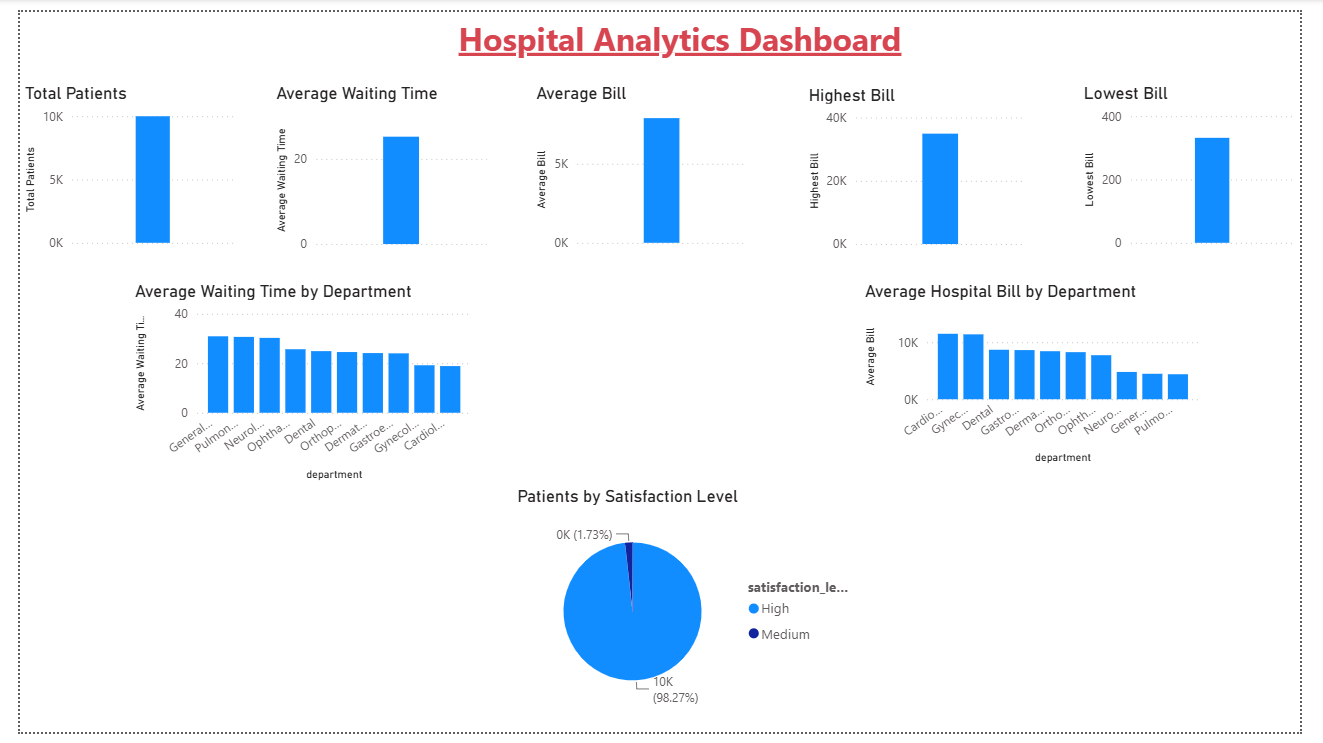

The page's visual inventory and layout, read from the dashboard file:
{"tool":"powerbi","page":{"name":"Page 1","canvas":[1280,720],"ordinal":0},"visuals":[{"type":"textbox","box":[347.5,0,625,57.5],"z":0},{"type":"clusteredColumnChart","fields":{"Y":["Hospital_Data.Total Patients"]},"box":[0,71.2,220,173.8],"z":1},{"type":"clusteredColumnChart","fields":{"Y":["Hospital_Data.Average Waiting Time"]},"box":[251.2,71.2,221.2,175],"z":2},{"type":"clusteredColumnChart","fields":{"Y":["Hospital_Data.Average Bill"]},"box":[511.2,71.2,221.2,173.8],"z":3},{"type":"clusteredColumnChart","fields":{"Y":["Hospital_Data.Highest Bill"]},"box":[783.8,72.5,227.5,173.8],"z":4},{"type":"clusteredColumnChart","fields":{"Y":["Hospital_Data.Lowest Bill"]},"box":[1058.8,71.2,221.2,173.8],"z":5},{"type":"columnChart","title":"Average Waiting Time by Department","fields":{"Category":["Hospital_Data.department"],"Y":["Hospital_Data.Average Waiting Time"]},"box":[110,268.8,346.2,205],"z":6},{"type":"pieChart","title":"Patients by Satisfaction Level","fields":{"Category":["Hospital_Data.satisfaction_level"],"Y":["Hospital_Data.Total Patients"]},"box":[492.5,473.8,347.5,232.5],"z":7},{"type":"columnChart","title":"Average Hospital Bill by Department","fields":{"Y":["Hospital_Data.Average Bill"],"Category":["Hospital_Data.department"]},"box":[840,268.8,343.8,187.5],"z":8}]}

Visuals, with their boxes in screenshot pixels (x1, y1, x2, y2), scaled from the page's 1280x720 canvas onto the 1323x743 screenshot:
textbox: bbox=(359, 0, 1005, 59)
clusteredColumnChart - Hospital_Data.Total Patients: bbox=(0, 73, 227, 253)
clusteredColumnChart - Hospital_Data.Average Waiting Time: bbox=(260, 73, 488, 254)
clusteredColumnChart - Hospital_Data.Average Bill: bbox=(528, 73, 757, 253)
clusteredColumnChart - Hospital_Data.Highest Bill: bbox=(810, 75, 1045, 254)
clusteredColumnChart - Hospital_Data.Lowest Bill: bbox=(1094, 73, 1322, 253)
"Average Waiting Time by Department" columnChart: bbox=(114, 277, 472, 489)
"Patients by Satisfaction Level" pieChart: bbox=(509, 489, 868, 729)
"Average Hospital Bill by Department" columnChart: bbox=(868, 277, 1224, 471)
